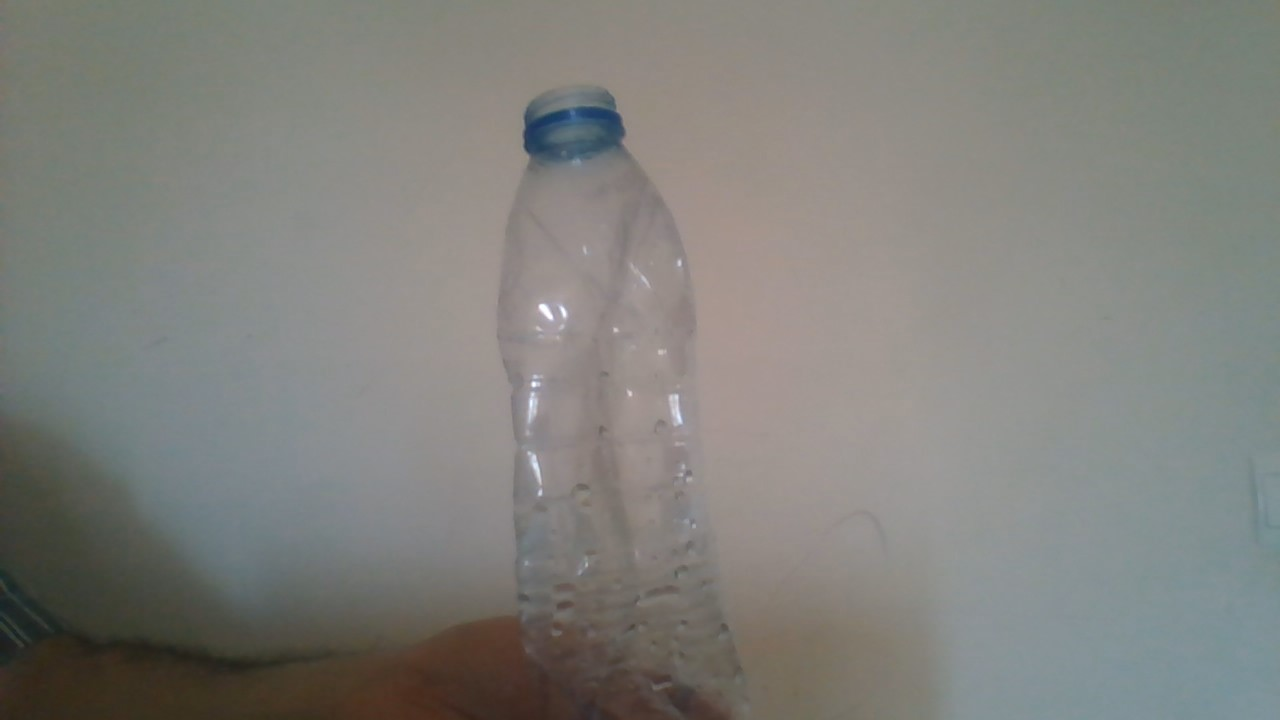plastic: (492, 75, 761, 717)
